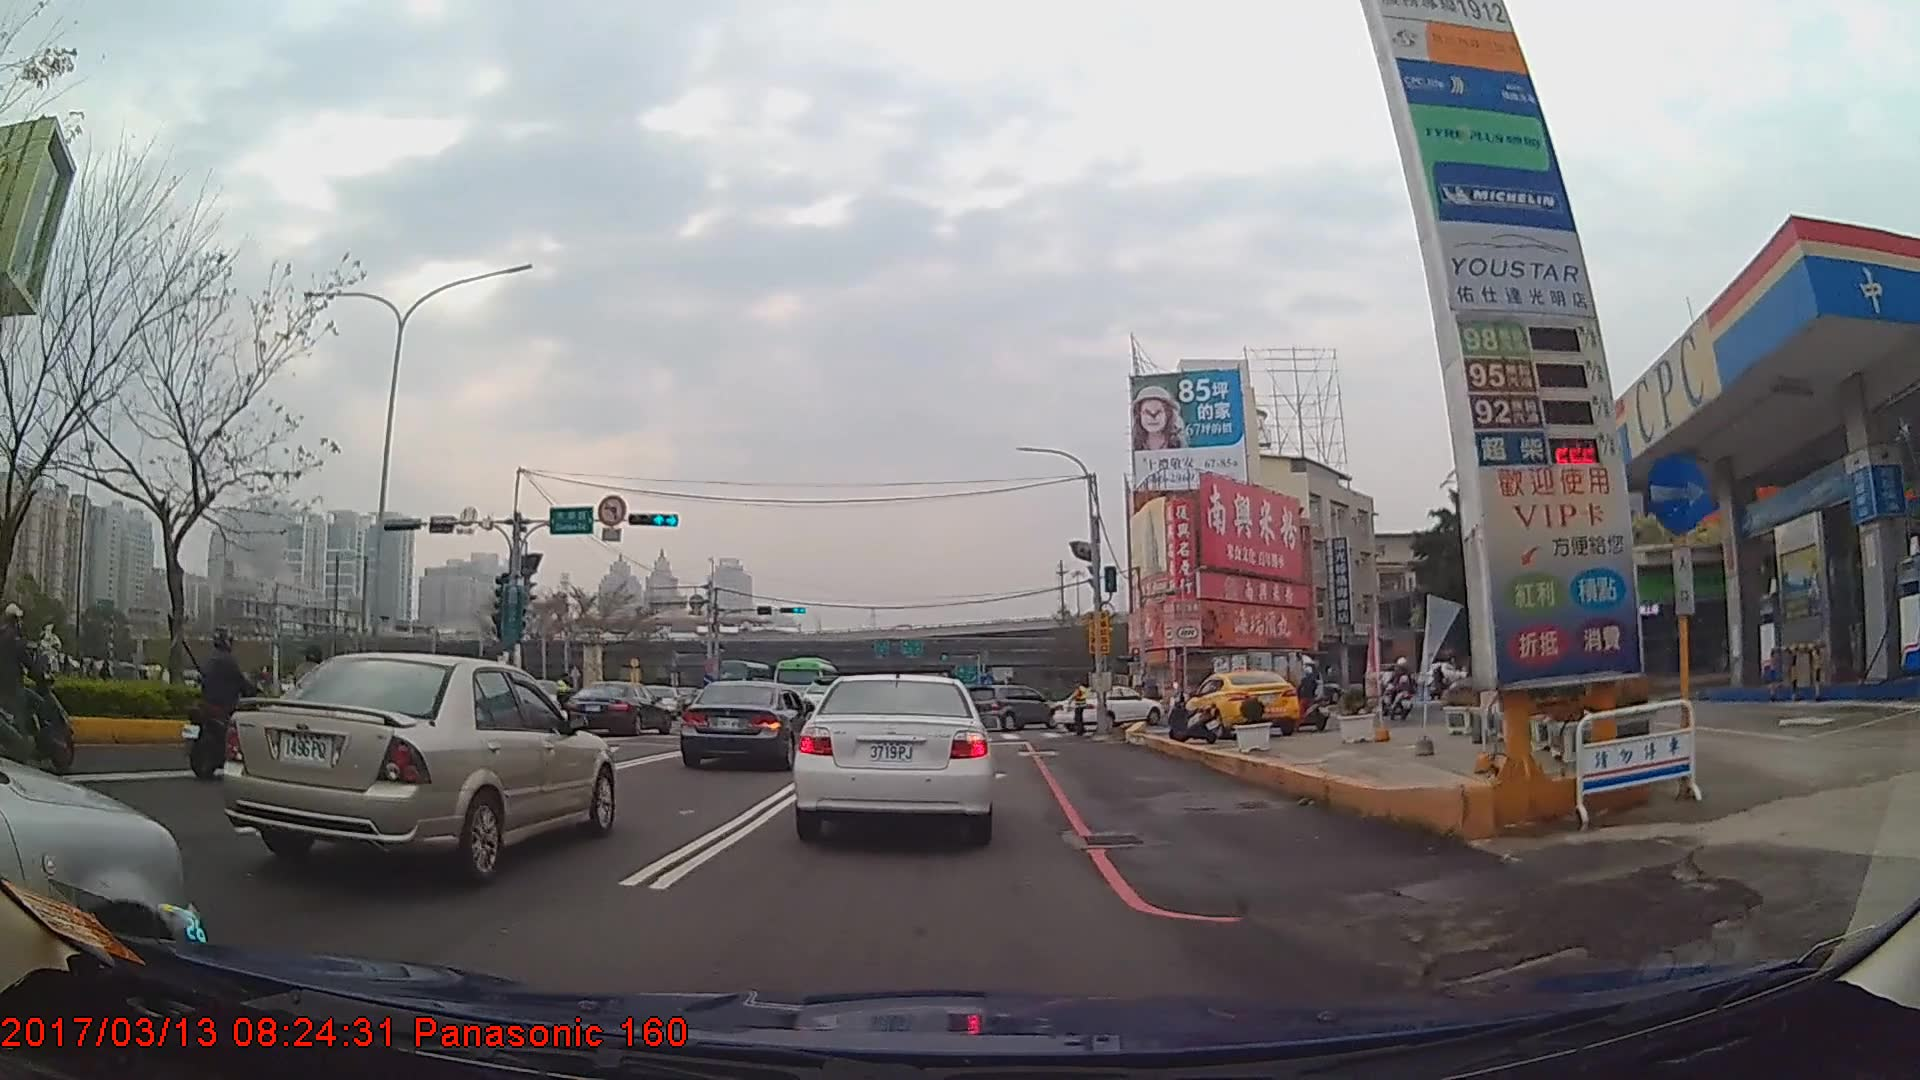pedestrian: (1064, 679, 1087, 737)
rider: (181, 627, 275, 781), (4, 605, 76, 778), (1290, 666, 1330, 732), (1385, 658, 1413, 722), (1378, 664, 1398, 716)
vehicle: (220, 649, 615, 885), (794, 667, 995, 842), (679, 680, 815, 771), (1182, 667, 1302, 735), (1208, 648, 1325, 716), (563, 680, 671, 734), (1055, 681, 1163, 729), (966, 683, 1060, 729), (770, 655, 840, 712)
